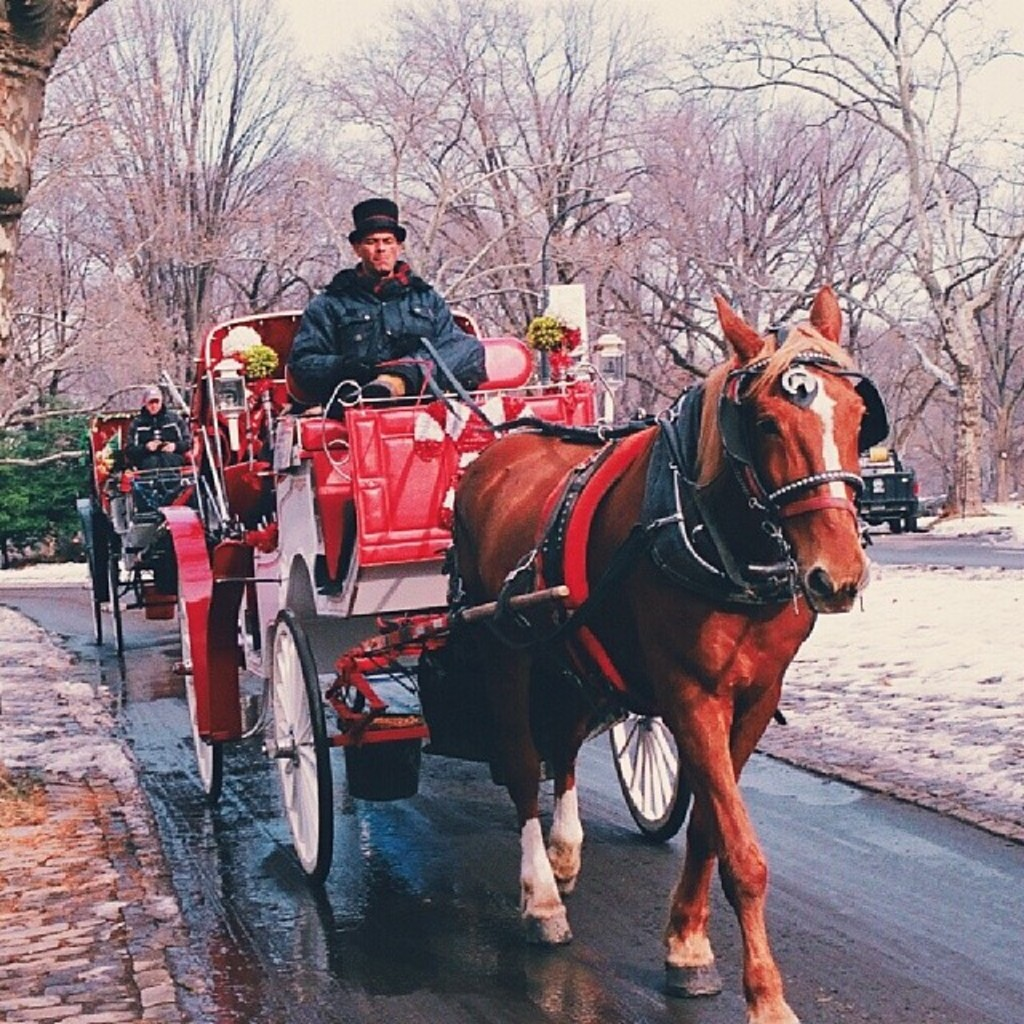horse: (449, 285, 889, 1023)
